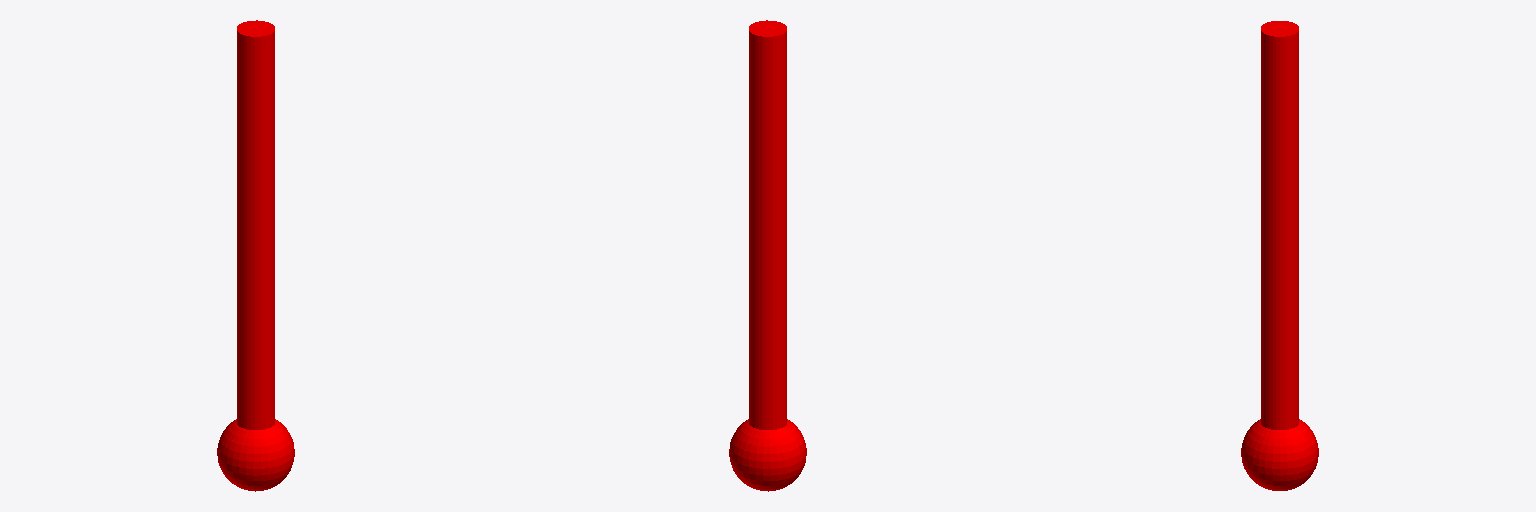
robot.urdf — pendulum:
<?xml version='1.0' encoding='UTF-8'?>
<robot name="pendulum">
    <link name="world">
        <inertial>
            <mass value="0.04" />
            <origin xyz="0 0 0" />
            <inertia ixx="0.0001" ixy="0" ixz="0" iyy="0.0001" iyz="0" izz="0.0001" />
        </inertial>
        <visual>
            <origin xyz="0 0 -0.6" />  
            <geometry>
                <cylinder length="1.2" radius="0.05" />
            </geometry>
            <material name="red">
                <color rgba="1 0 0 1" />
            </material>
        </visual>
        <visual>
            <origin xyz="0 0 -1.2" />  
            <geometry>
                <sphere radius="0.1" />
            </geometry>
            <material name="red">
                <color rgba="1 0 0 1" />
            </material>
        </visual>  
        <!-- <visual>
            <origin xyz="0 0 0" />  
            <geometry>
                <sphere radius="1.2" />
            </geometry>
            <material name="blue">
                <color rgba="0 0 1. 0." />
            </material>
        </visual> -->
        <collision>  
            <origin xyz="0 0 -0.6" />  
            <geometry>
                <cylinder length="1.2" radius="0.1" />
            </geometry>
        </collision>
    </link>
</robot>

--- Facts derived from the render (not from the file) ---
The picture shows the robot from 3 angles, left to right: view 1: azimuth 30°, elevation 25°; view 2: azimuth 150°, elevation 25°; view 3: azimuth 270°, elevation 25°; orthographic projection.
Robot: pendulum — 1 links, 0 joints (none); root link world; default pose: all joints at 0.
Visible links, largest first — view 1: world; view 2: world; view 3: world.
Link boxes in pixels (x1=…): world: x1=217, y1=20, x2=294, y2=491; world: x1=729, y1=20, x2=806, y2=491; world: x1=1241, y1=21, x2=1318, y2=490.
Size in the robot's own frame: 0.2 by 0.2 by 1.3 metres.
Geometry: primitives only (box / cylinder / sphere), no mesh files.